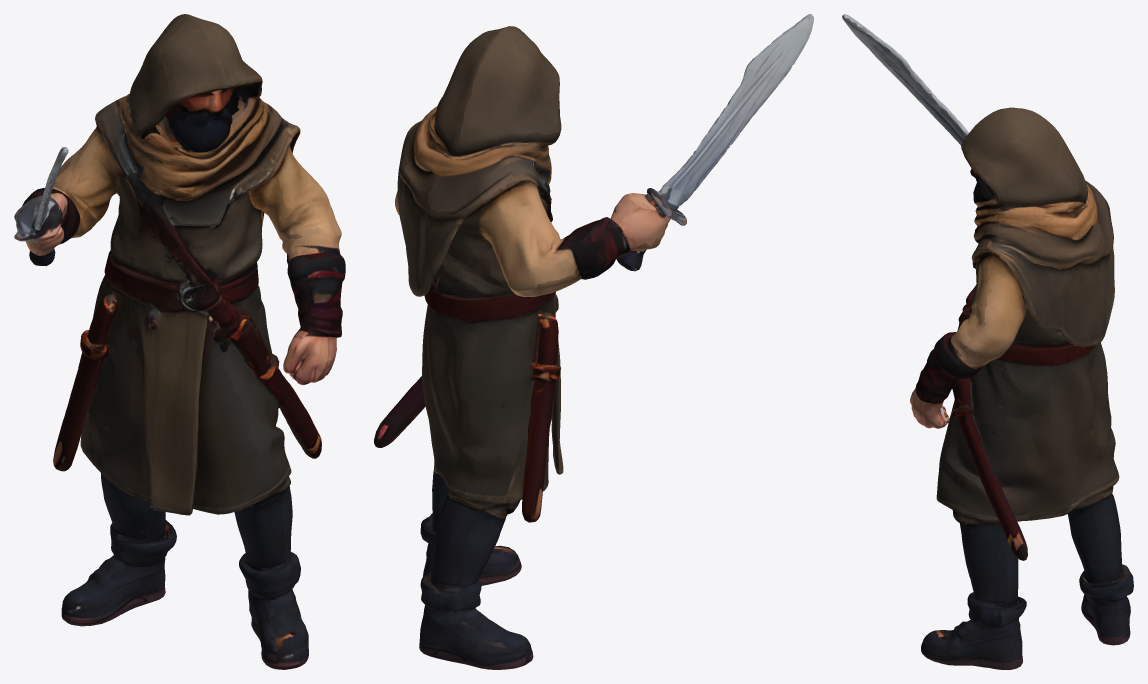
File: thief.glb
3 renders of one model, left to right at view 1: azimuth 30°, elevation 25°; view 2: azimuth 150°, elevation 25°; view 3: azimuth 270°, elevation 25°, orthographic. The views are drawn at different scales.
Parts seen in each view (by area): view 1: textured_mesh; view 2: textured_mesh; view 3: textured_mesh.
Part boxes in pixels (x1=…): textured_mesh: x1=14, y1=14, x2=345, y2=669; textured_mesh: x1=374, y1=14, x2=813, y2=669; textured_mesh: x1=842, y1=14, x2=1133, y2=669.
Size of the model in its own units: 1.22 by 1.99 by 0.9998.
1 material, 1 textured.
